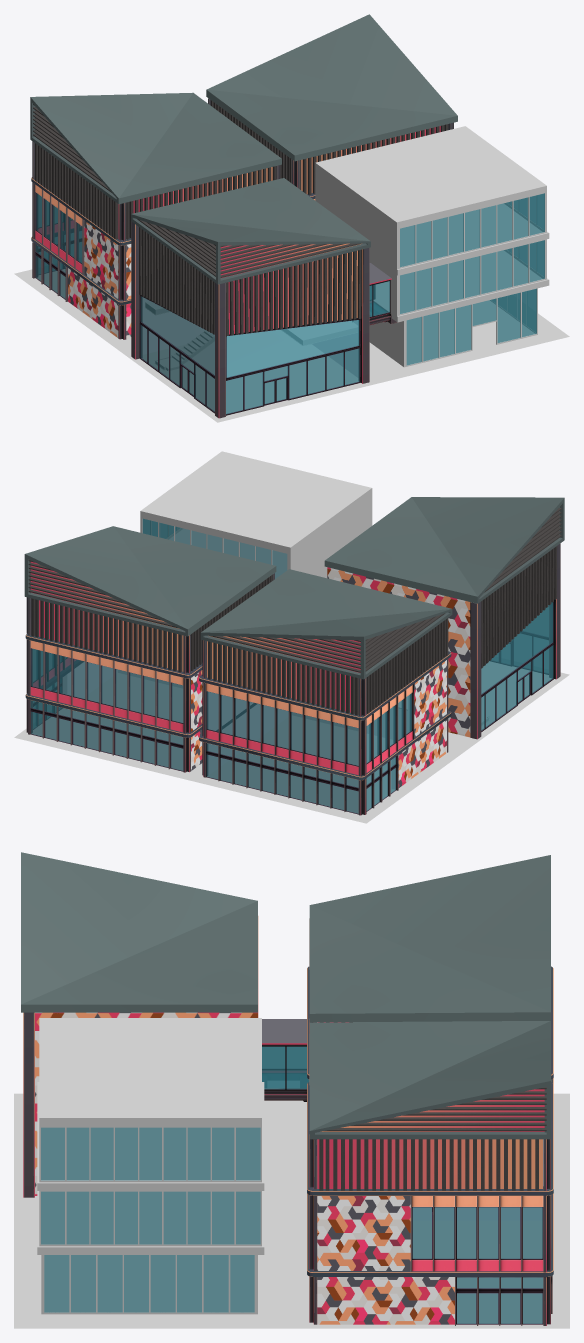
File: TeachingCommunityVenue.glb
3 renders of one model, top to bottom at view 1: azimuth 30°, elevation 25°; view 2: azimuth 150°, elevation 25°; view 3: azimuth 270°, elevation 25°, orthographic. The views are drawn at different scales.
Parts seen in each view (by area): view 1: TCV_LectureTheatreRoof1.001, TCV_LectureTheatreRoof1, LiveTeach_FloorREF1, TCV_WelcomeZoneStructureRoof, pCube131, TCV_WelcomeZoneGlass00, TCV_WelcomeZoneWoodPanels1, polySurface809, polySurface865, polySurface810, polySurface864, TCV_LectureTheatreWoodPanel3 (+26 smaller); view 2: LiveTeach_FloorREF1, TCV_LectureTheatreRoof1.001, TCV_WelcomeZoneStructureRoof, TCV_LectureTheatreRoof1, pCube131, TCV_LectureTheatreWoodPanel3, TCV_LectureTheatreWoodPanel3.001, TCV_LectureTheatreWalls, TCV_LecturerTheatre02FirstfloorGlass, TCV_LectureTheatreFirstFloorWindowsFrame, TCV_LecturerTheatre02FirstfloorGlass.001, TCV_LecturerTheatre01GroundfloorGlass (+23 smaller); view 3: LiveTeach_FloorREF1, TCV_LectureTheatreRoof1, TCV_WelcomeZoneStructureRoof, TCV_LectureTheatreRoof1.001, pCube131, TCV_LectureTheatreWalls.001, polySurface810, polySurface809, TCV_LectureTheatreWoodPanel3.001, polySurface864, polySurface865, TCV_LecturerTheatre02FirstfloorGlass.001 (+23 smaller).
Boxes of the visible parts, left/top/right/bottom form: TCV_LectureTheatreRoof1.001: left=206, top=14, right=457, bottom=161; TCV_LectureTheatreRoof1: left=30, top=92, right=281, bottom=204; LiveTeach_FloorREF1: left=14, top=269, right=569, bottom=422; TCV_WelcomeZoneStructureRoof: left=131, top=178, right=370, bottom=284; pCube131: left=315, top=126, right=546, bottom=228; TCV_WelcomeZoneGlass00: left=226, top=320, right=359, bottom=414; TCV_WelcomeZoneWoodPanels1: left=226, top=249, right=361, bottom=335; polySurface809: left=374, top=250, right=549, bottom=322; polySurface865: left=400, top=193, right=544, bottom=267; polySurface810: left=369, top=203, right=549, bottom=275; polySurface864: left=400, top=240, right=544, bottom=313; TCV_LectureTheatreWoodPanel3: left=35, top=143, right=276, bottom=239; LiveTeach_FloorREF1: left=14, top=661, right=569, bottom=823; TCV_LectureTheatreRoof1.001: left=24, top=526, right=276, bottom=636; TCV_WelcomeZoneStructureRoof: left=324, top=497, right=564, bottom=603; TCV_LectureTheatreRoof1: left=200, top=569, right=452, bottom=679; pCube131: left=140, top=451, right=372, bottom=553; TCV_LectureTheatreWoodPanel3: left=207, top=618, right=448, bottom=715; TCV_LectureTheatreWoodPanel3.001: left=31, top=575, right=272, bottom=672; TCV_LectureTheatreWalls: left=208, top=660, right=446, bottom=788; TCV_LecturerTheatre02FirstfloorGlass: left=207, top=691, right=411, bottom=765; TCV_LectureTheatreFirstFloorWindowsFrame: left=206, top=683, right=414, bottom=775; TCV_LecturerTheatre02FirstfloorGlass.001: left=31, top=648, right=183, bottom=722; TCV_LecturerTheatre01GroundfloorGlass: left=206, top=743, right=395, bottom=813; LiveTeach_FloorREF1: left=14, top=1093, right=569, bottom=1328; TCV_LectureTheatreRoof1: left=309, top=855, right=550, bottom=1021; TCV_WelcomeZoneStructureRoof: left=21, top=852, right=257, bottom=1012; TCV_LectureTheatreRoof1.001: left=309, top=1021, right=550, bottom=1139; pCube131: left=39, top=1018, right=261, bottom=1126; TCV_LectureTheatreWalls.001: left=317, top=1196, right=542, bottom=1324; polySurface810: left=37, top=1082, right=264, bottom=1190; polySurface809: left=37, top=1191, right=264, bottom=1254; TCV_LectureTheatreWoodPanel3.001: left=317, top=1139, right=542, bottom=1190; polySurface864: left=41, top=1191, right=260, bottom=1244; polySurface865: left=41, top=1127, right=260, bottom=1180; TCV_LecturerTheatre02FirstfloorGlass.001: left=412, top=1207, right=542, bottom=1258.
Size of what is drawn, in the model's own units: 48 by 23.37 by 48.
9 materials, 7 textured.
